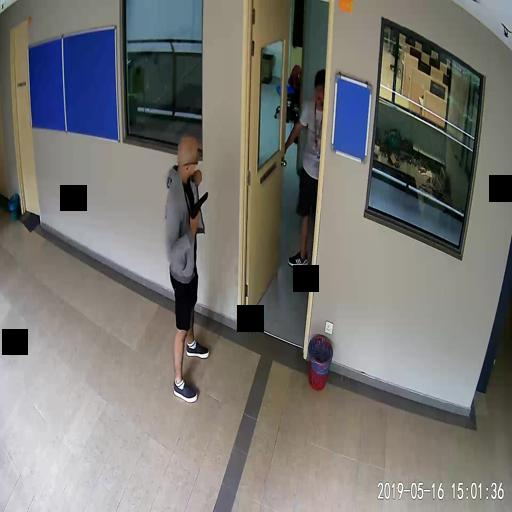Handgun: (190, 190, 208, 224)
